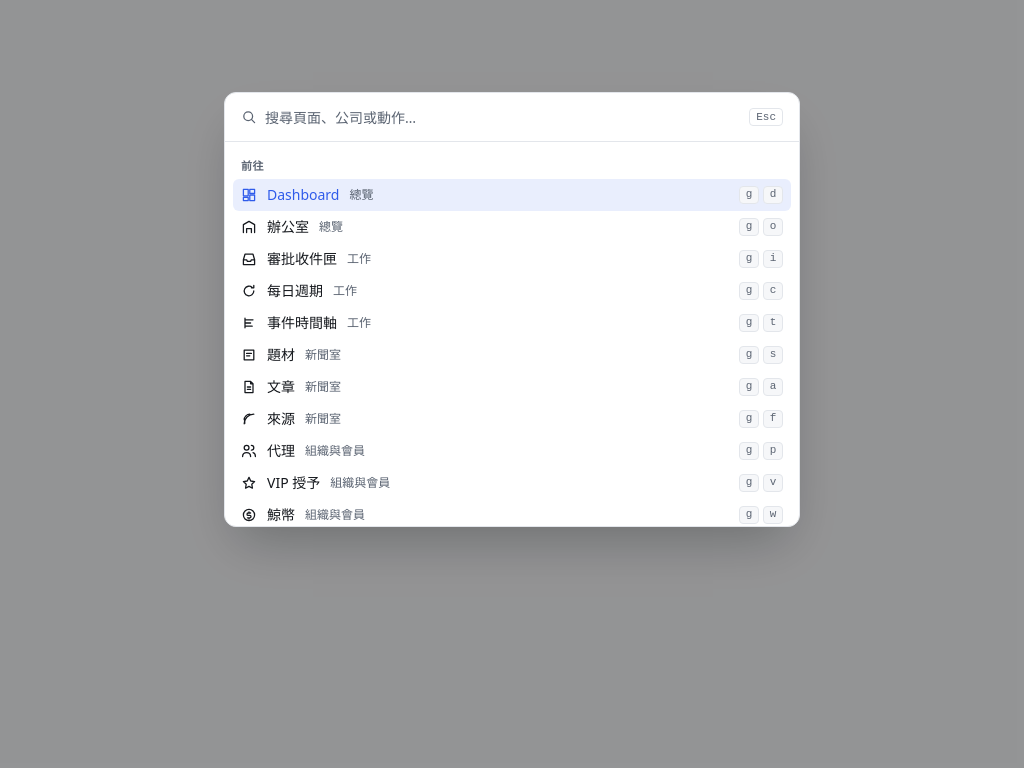
Test case: the palette › says when nothing matches
Type "zzz" into the dropdown at (503, 117), box top-left (265, 93), bottom-right (741, 141)
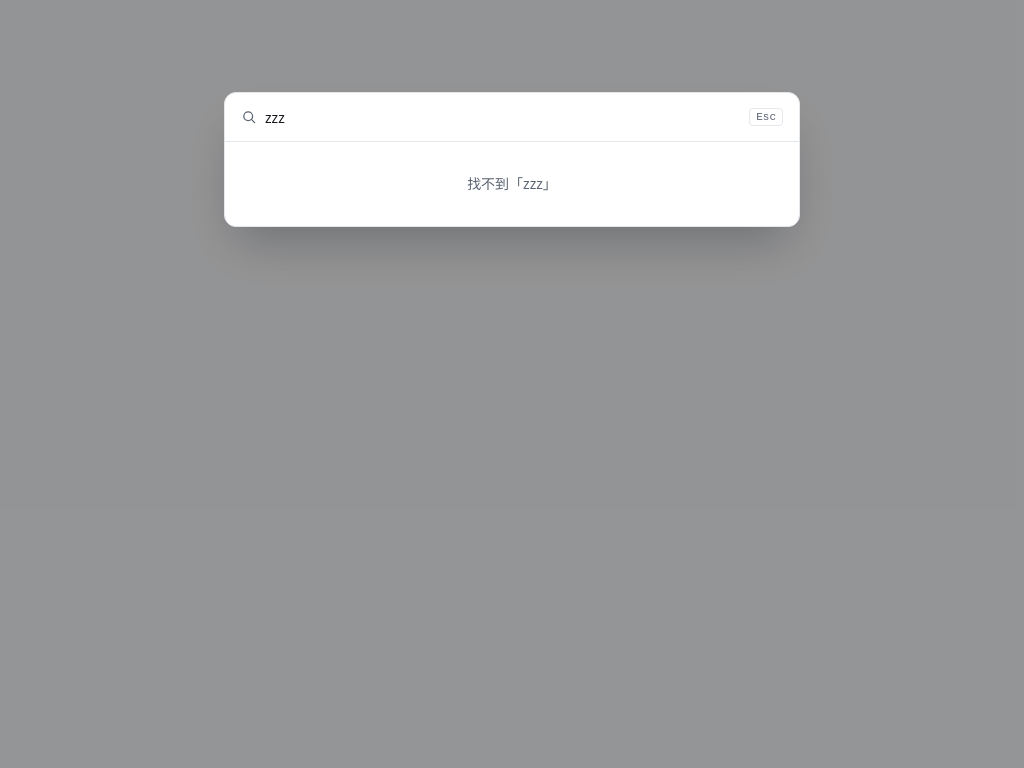
Check: the list reads "找不到「zzz」", box top-left (467, 174), bottom-right (557, 193)
